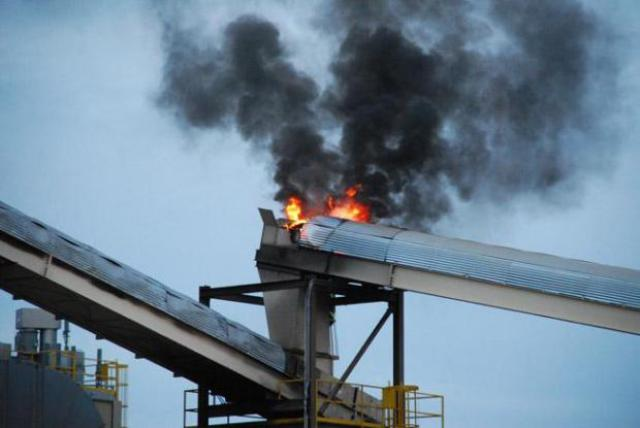fire: (328, 190, 368, 224), (280, 198, 312, 222)
smoke: (312, 0, 636, 121), (392, 125, 622, 192), (134, 0, 244, 130), (239, 128, 385, 182), (244, 21, 310, 128), (386, 194, 570, 224)
